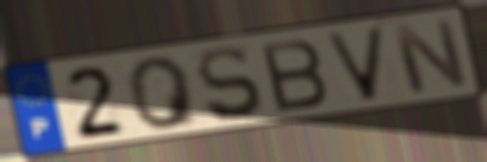2: (62, 64, 126, 142)
B: (256, 36, 331, 116)
N: (388, 17, 472, 97)
Q: (123, 53, 203, 132)
S: (194, 44, 267, 125)
V: (321, 24, 390, 104)
